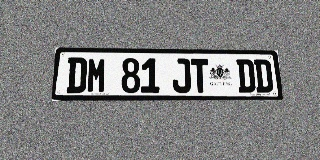1: (141, 58, 159, 93)
8: (121, 58, 140, 93)
D: (66, 57, 87, 93), (236, 59, 256, 93), (254, 59, 273, 93)
J: (172, 58, 191, 93)
M: (86, 57, 107, 93)
T: (190, 59, 209, 93)
